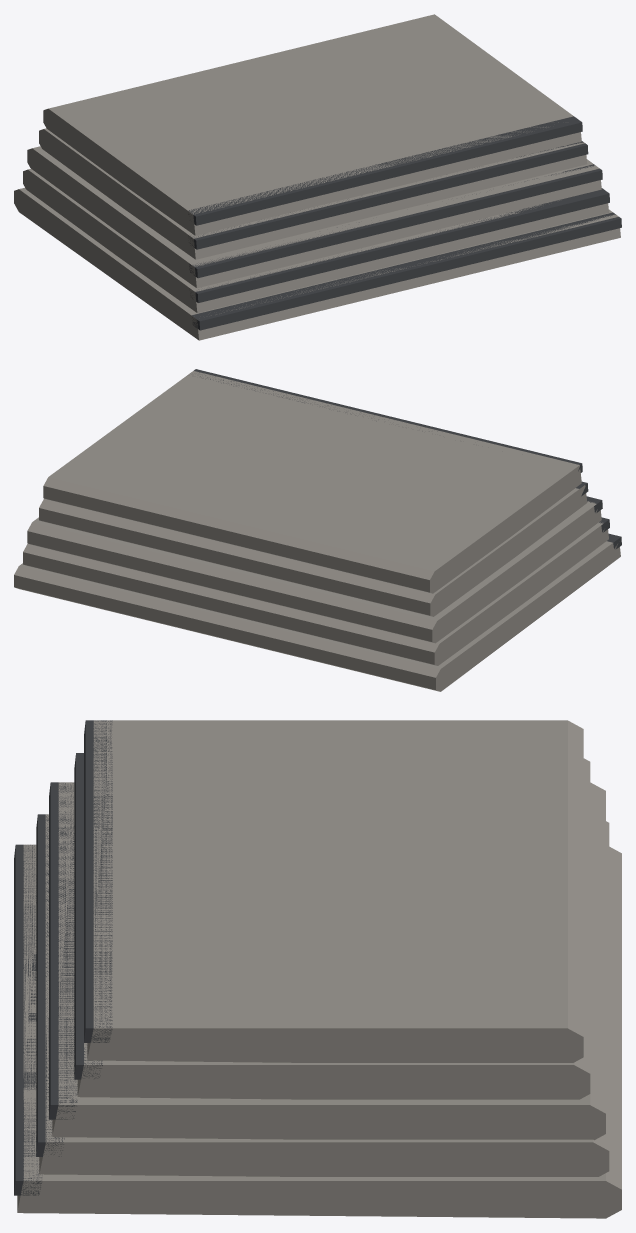
File: FN_Throw_Folded.glb
3 views of the same model, one above another, from view 1: azimuth 30°, elevation 25°; view 2: azimuth 150°, elevation 25°; view 3: azimuth 270°, elevation 25° (orthographic). The views are drawn at different scales.
Visible parts, largest first — view 1: FN_Throw_Folded; view 2: FN_Throw_Folded; view 3: FN_Throw_Folded.
Boxes of the visible parts, x1,y1,x2,y2 form: FN_Throw_Folded: (14, 14, 621, 340); FN_Throw_Folded: (14, 369, 621, 691); FN_Throw_Folded: (14, 720, 621, 1218).
Bounding box in the file's own units: 0.5 × 0.122 × 0.382.
1 material, 1 textured.
